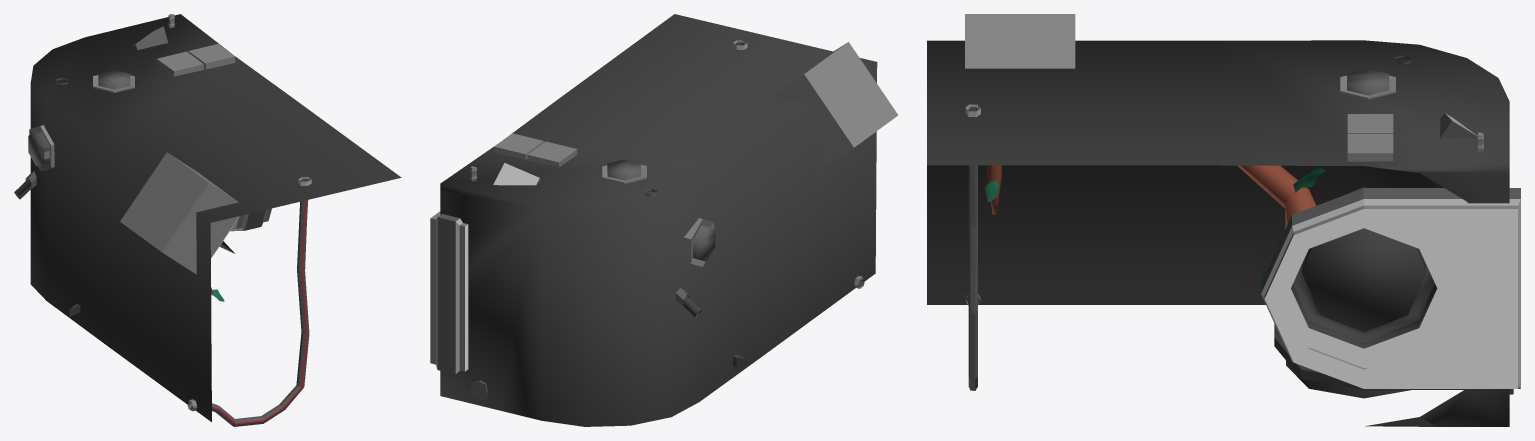
The model's file is PipeTurn01.glb.
3 views of the same model, side by side, from view 1: azimuth 30°, elevation 25°; view 2: azimuth 150°, elevation 25°; view 3: azimuth 270°, elevation 25° (orthographic). The views are drawn at different scales.
Visible parts, largest first — view 1: turn.001; view 2: turn.001; view 3: turn.001.
Part boxes in pixels (box(x1,y1,x2,y2)): turn.001: box(14, 14, 401, 426); turn.001: box(430, 14, 898, 426); turn.001: box(927, 14, 1520, 426).
Bounding box in the file's own units: 2.42 × 2.56 × 4.08.
1 material, 1 textured.
